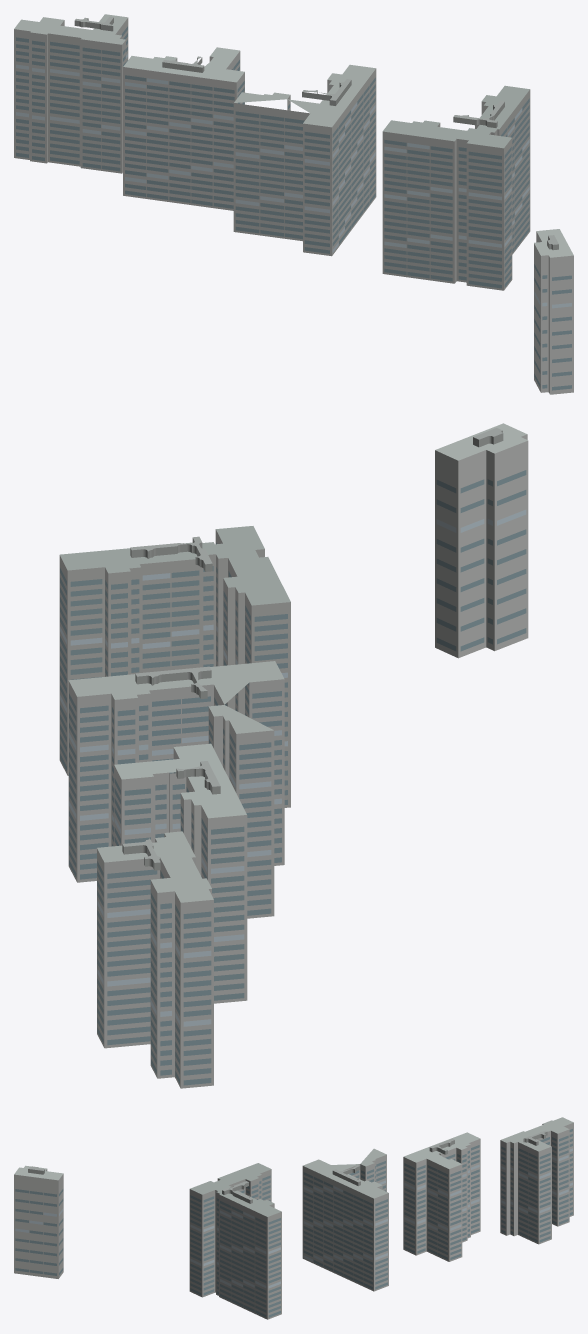
Rendered from apt-a10025203.glb.
The picture shows the model from 3 angles, top to bottom: view 1: azimuth 30°, elevation 25°; view 2: azimuth 150°, elevation 25°; view 3: azimuth 270°, elevation 25°; orthographic projection. The views are drawn at different scales.
Visible parts, largest first — view 1: apt-a10025203; view 2: apt-a10025203; view 3: apt-a10025203.
Boxes of the visible parts, bbox=[...] form: apt-a10025203: bbox=[14, 14, 573, 394]; apt-a10025203: bbox=[59, 423, 528, 1088]; apt-a10025203: bbox=[14, 1117, 573, 1319].
Size of the model in its own units: 147 by 66.45 by 316.
